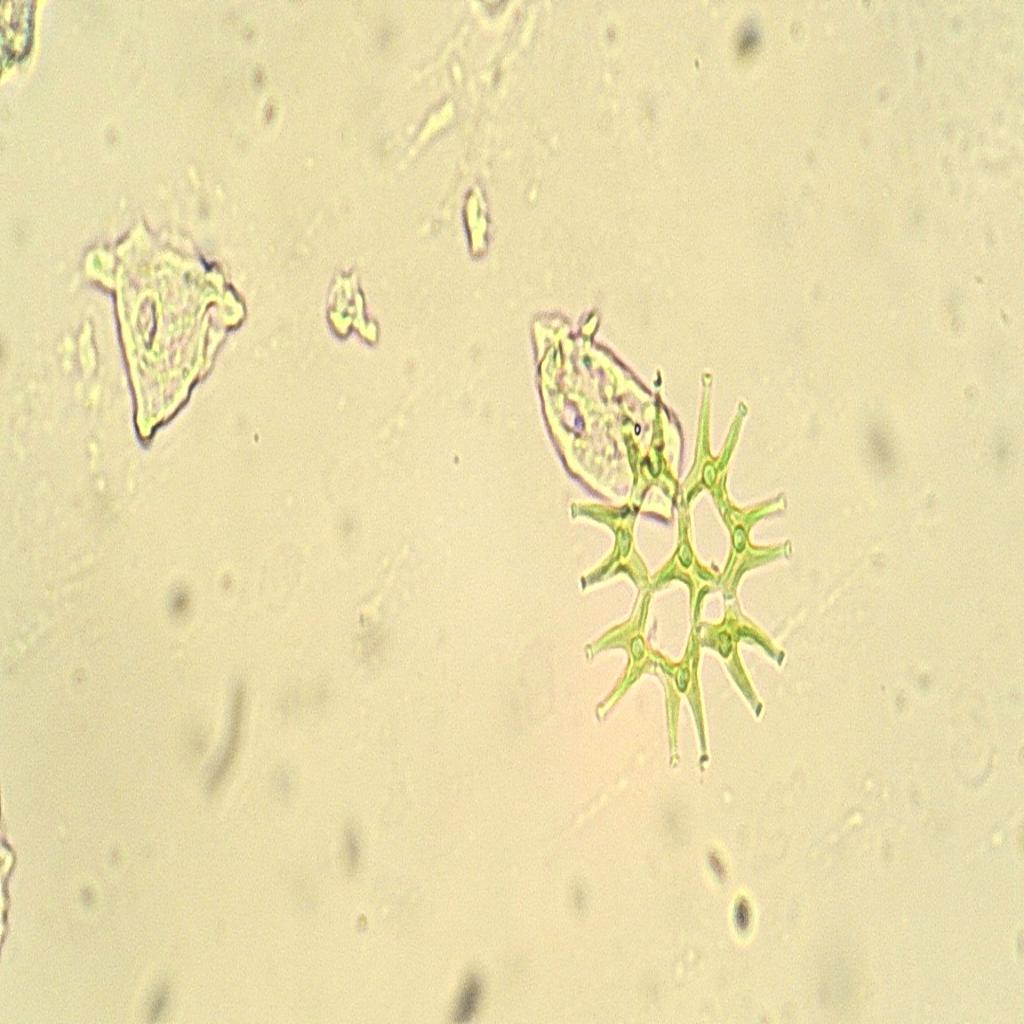Pediastrum_75T: (559, 342, 802, 792)
